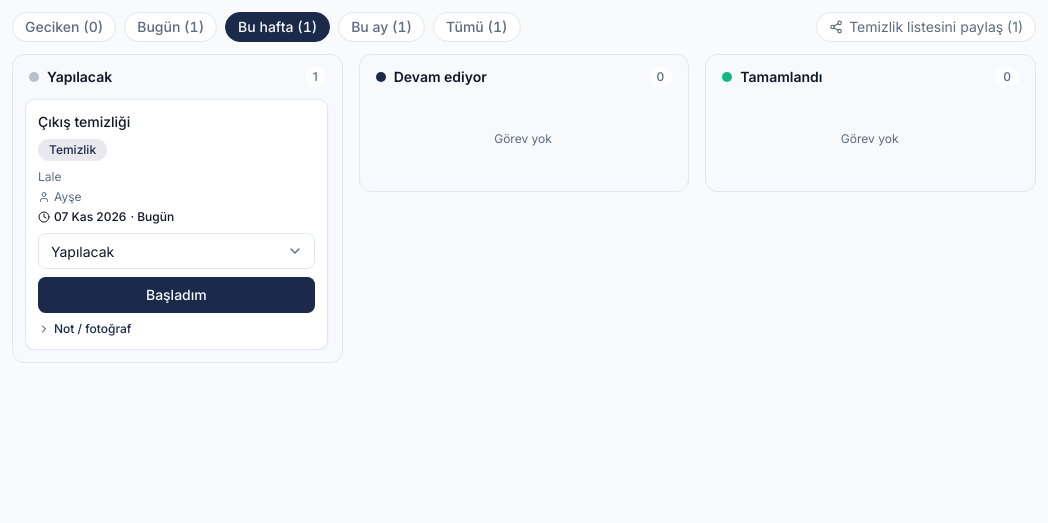
it: pano — görev sayfa açıkken başkasına verildi (eski sekme) › not kaydı → kart içinde aynı mesaj; liste YENİLENMEZ, yazılan not yerinde kalır
Click the button "Not / fotoğraf" at {"x": 85, "y": 329}, box [38, 315, 131, 343]
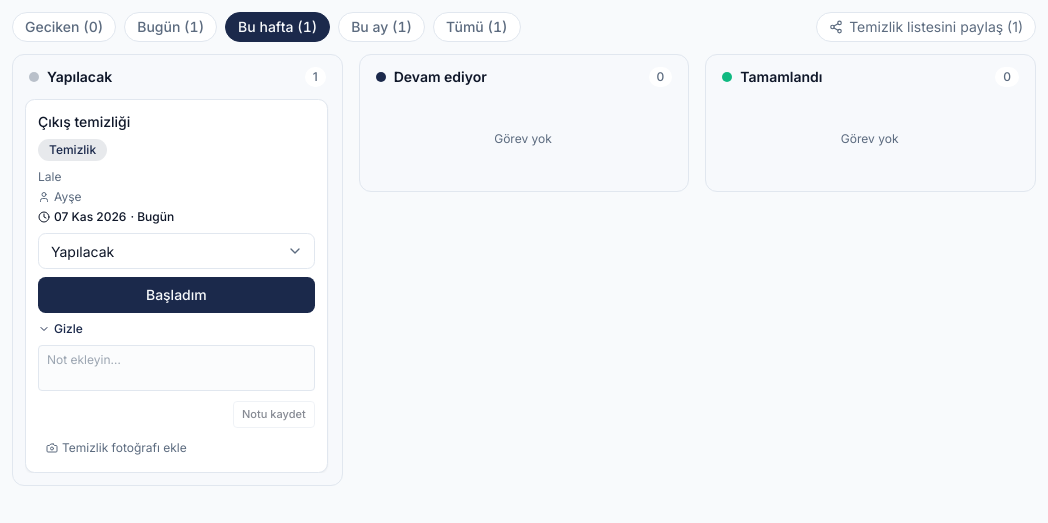
Type "Anahtar kapıda" into the text box named "Görev notu: Çıkış temizliği" at {"x": 176, "y": 368}, box [38, 345, 315, 391]
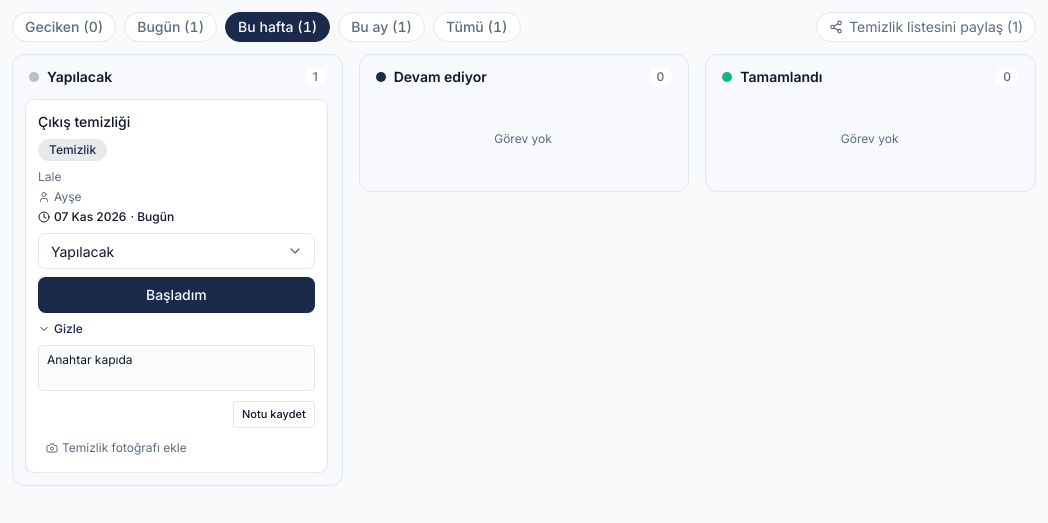
Click the button "Notu kaydet" at {"x": 274, "y": 415}, box [233, 401, 315, 428]
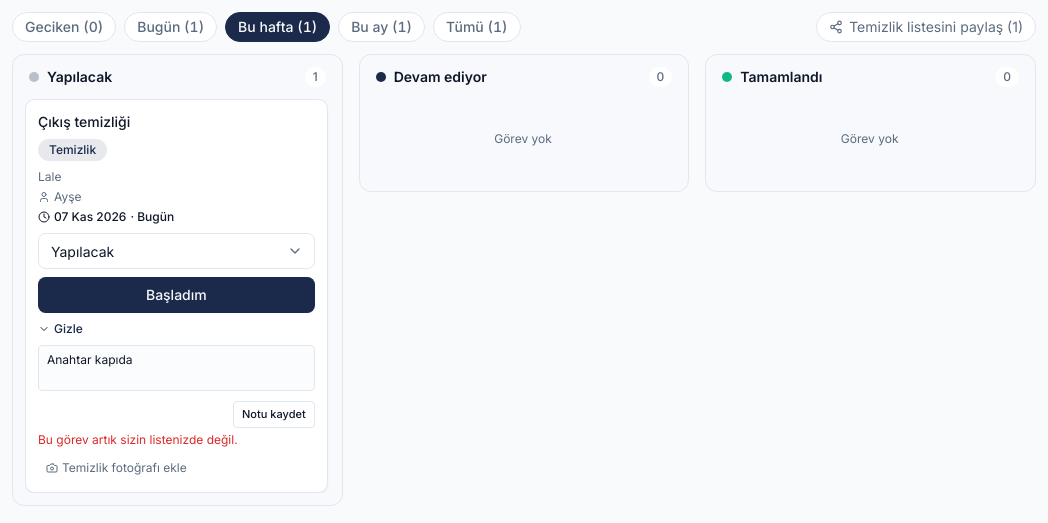
Result: the text "Bu görev artık sizin listenizde değil." is shown at [38, 432, 238, 447]
